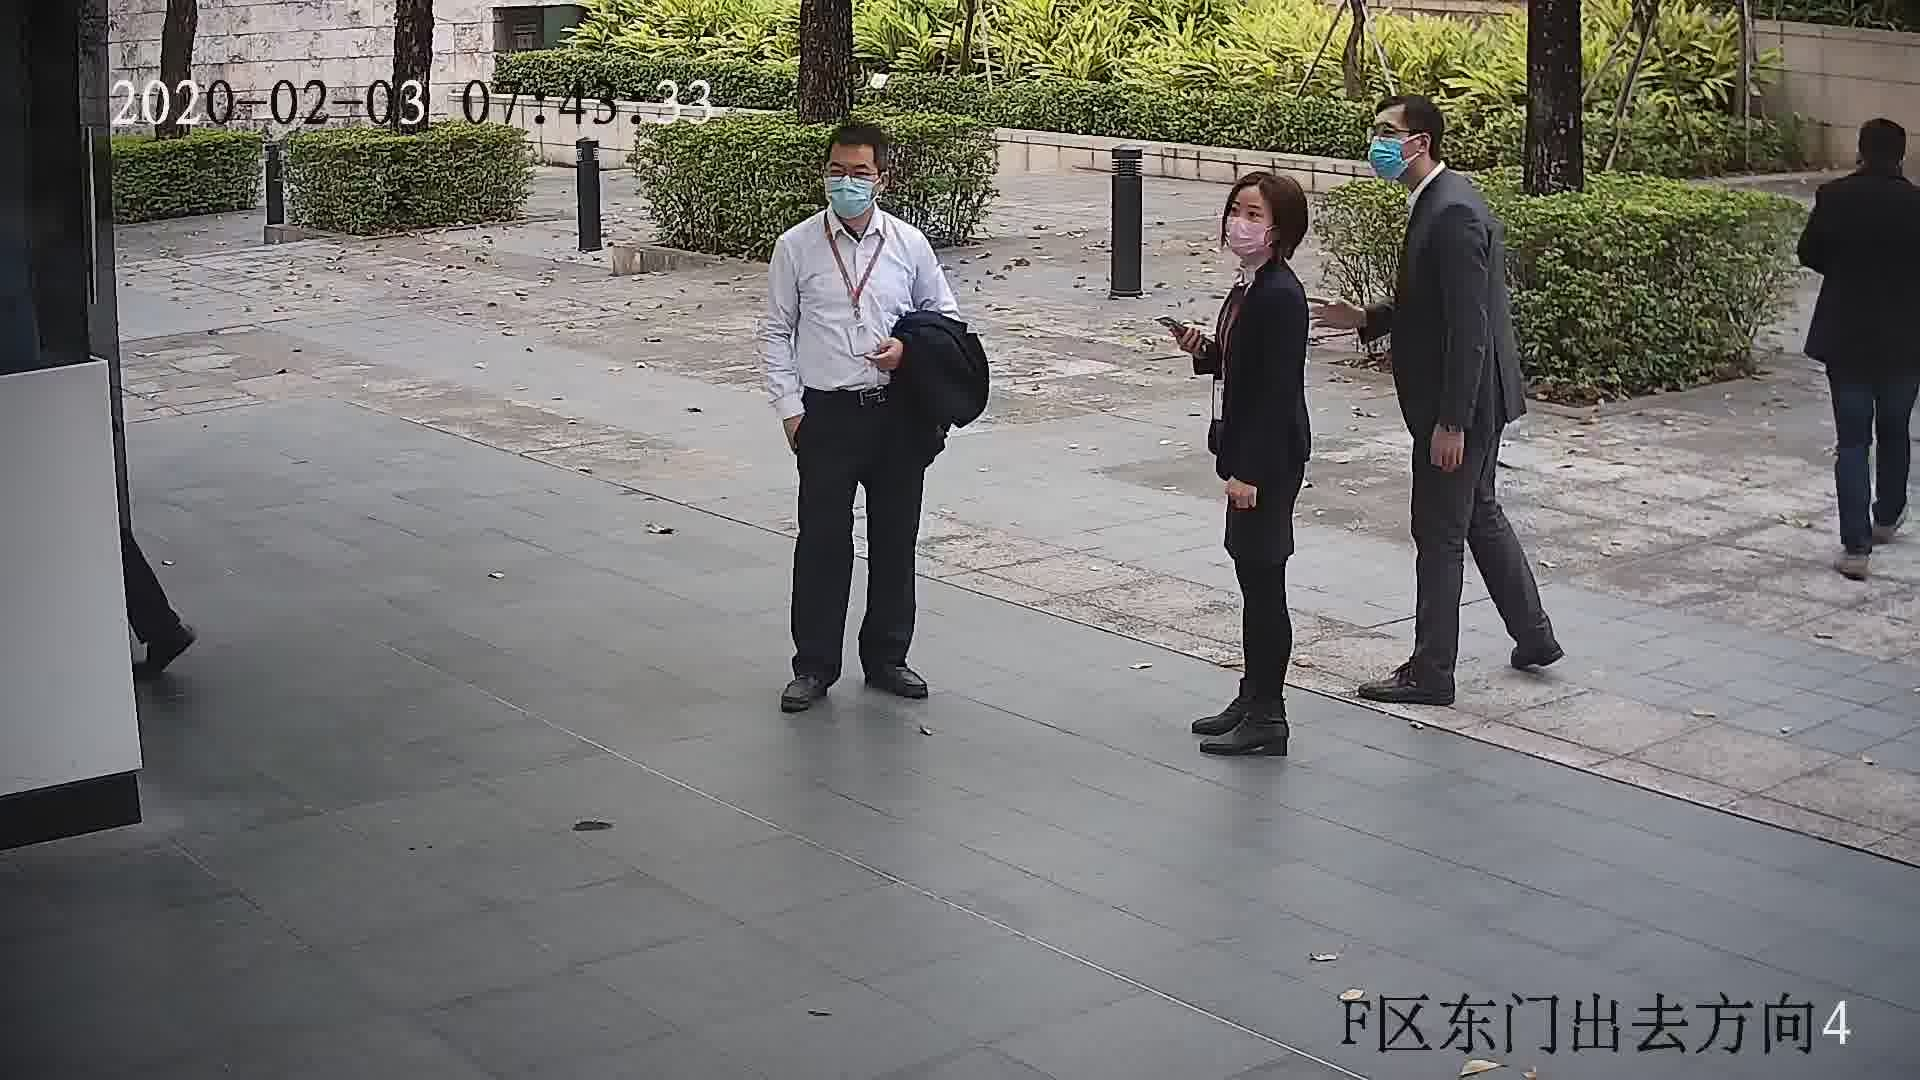face: (820, 138, 875, 224), (1366, 105, 1421, 184), (1221, 193, 1283, 255)
mask: (819, 175, 875, 217), (1364, 135, 1407, 182), (1223, 213, 1269, 257)
person: (775, 122, 934, 265), (1376, 92, 1494, 224), (1214, 170, 1318, 312), (1808, 111, 1920, 234)
